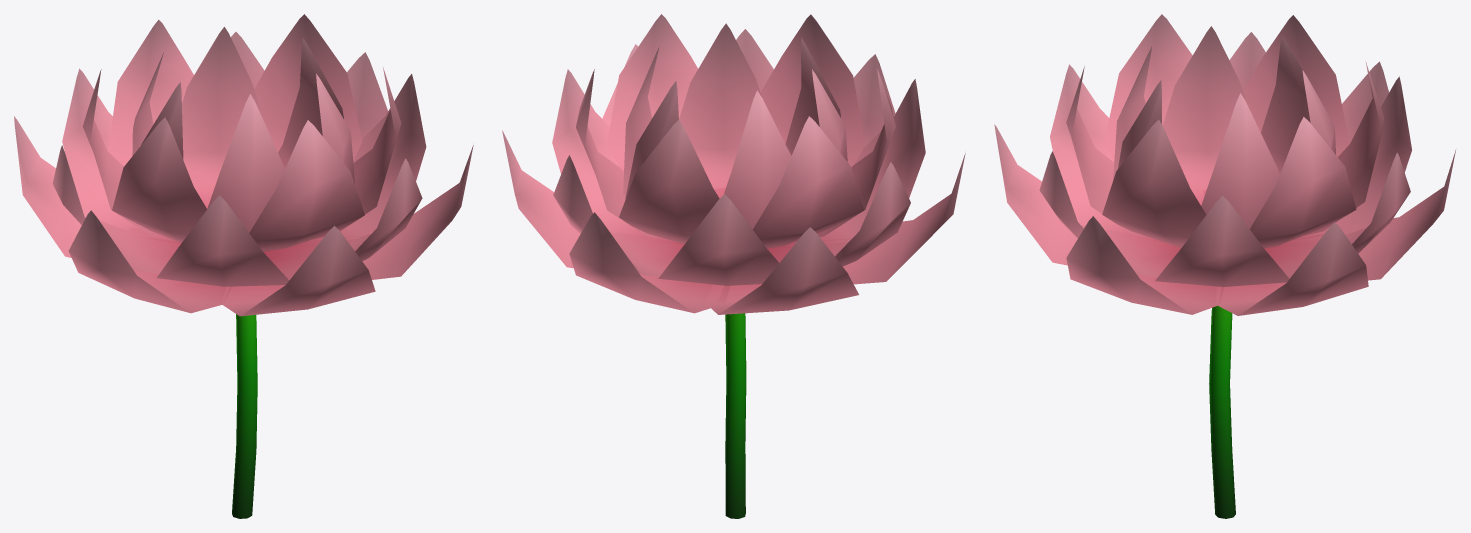
File: flowersCircle_006.fbx
The picture shows the model from 3 angles, left to right: view 1: azimuth 30°, elevation 25°; view 2: azimuth 150°, elevation 25°; view 3: azimuth 270°, elevation 25°; orthographic projection.
Parts seen in each view (by area): view 1: Circle.006; view 2: Circle.006; view 3: Circle.006.
Part boxes in pixels (x1,y1,x2,y2): Circle.006: (14,14,473,518); Circle.006: (502,14,965,518); Circle.006: (994,14,1455,518).
Bounding box in the file's own units: 98.87 × 115 × 106.
